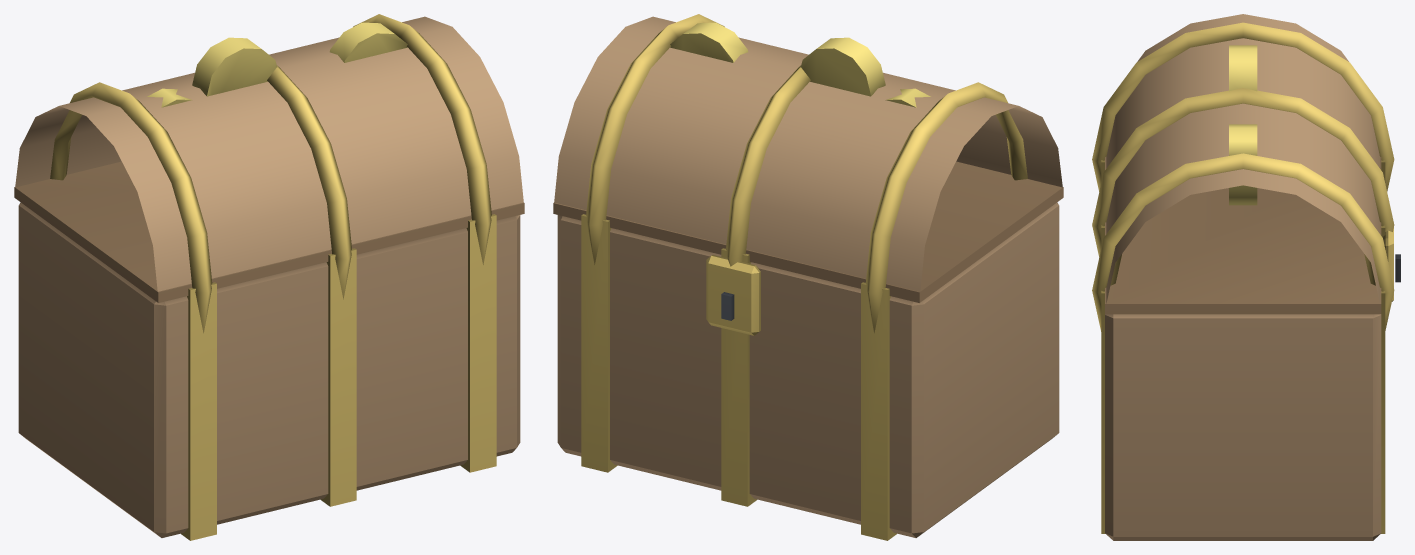
Rendered from Treasure.fbx.
3 views of the same model, side by side, from view 1: azimuth 30°, elevation 25°; view 2: azimuth 150°, elevation 25°; view 3: azimuth 270°, elevation 25° (orthographic). The views are drawn at different scales.
Parts seen in each view (by area): view 1: Treasure; view 2: Treasure; view 3: Treasure.
Part boxes in pixels (x1=…): Treasure: x1=14, y1=14, x2=524, y2=540; Treasure: x1=553, y1=14, x2=1063, y2=540; Treasure: x1=1092, y1=14, x2=1400, y2=540.
Size of the model in its own units: 1.43 by 1.55 by 1.09.
